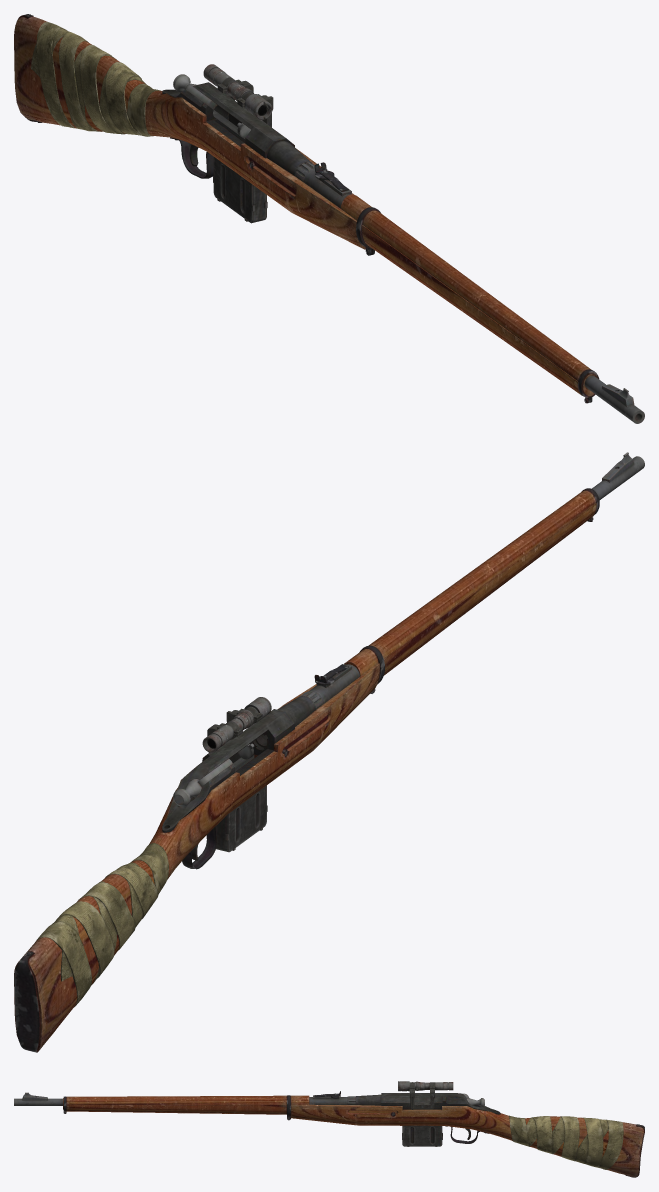
Rendered from bolt_action_rifle.glb.
The picture shows the model from 3 angles, top to bottom: view 1: azimuth 30°, elevation 25°; view 2: azimuth 150°, elevation 25°; view 3: azimuth 270°, elevation 25°; orthographic projection. The views are drawn at different scales.
Parts seen in each view (by area): view 1: bolt_action_rifle_7_62; view 2: bolt_action_rifle_7_62; view 3: bolt_action_rifle_7_62.
Boxes of the visible parts, left/top/right/bottom form: bolt_action_rifle_7_62: left=14, top=14, right=644, bottom=423; bolt_action_rifle_7_62: left=14, top=452, right=644, bottom=1052; bolt_action_rifle_7_62: left=14, top=1081, right=644, bottom=1177.
Size of the model in its own units: 0.0479 by 0.2045 by 1.23.
Materials: 3 (3 with a texture image).
